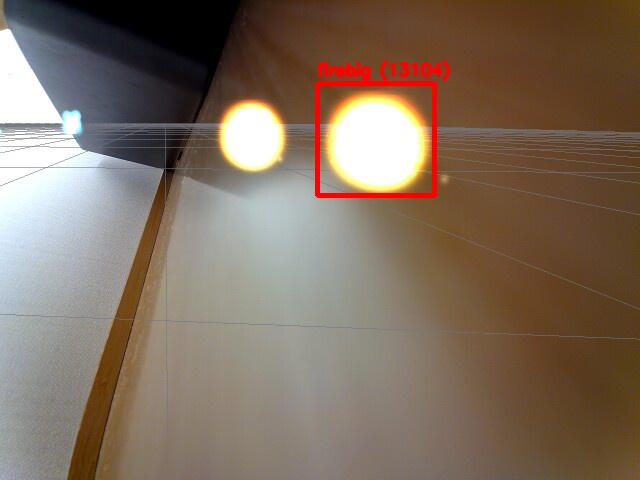firebig: (317, 83, 434, 195)
